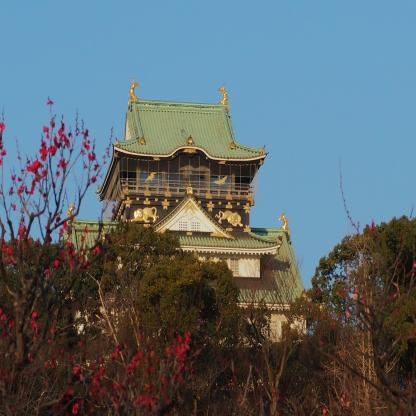Ume: (0, 93, 207, 416), (284, 154, 416, 416)
